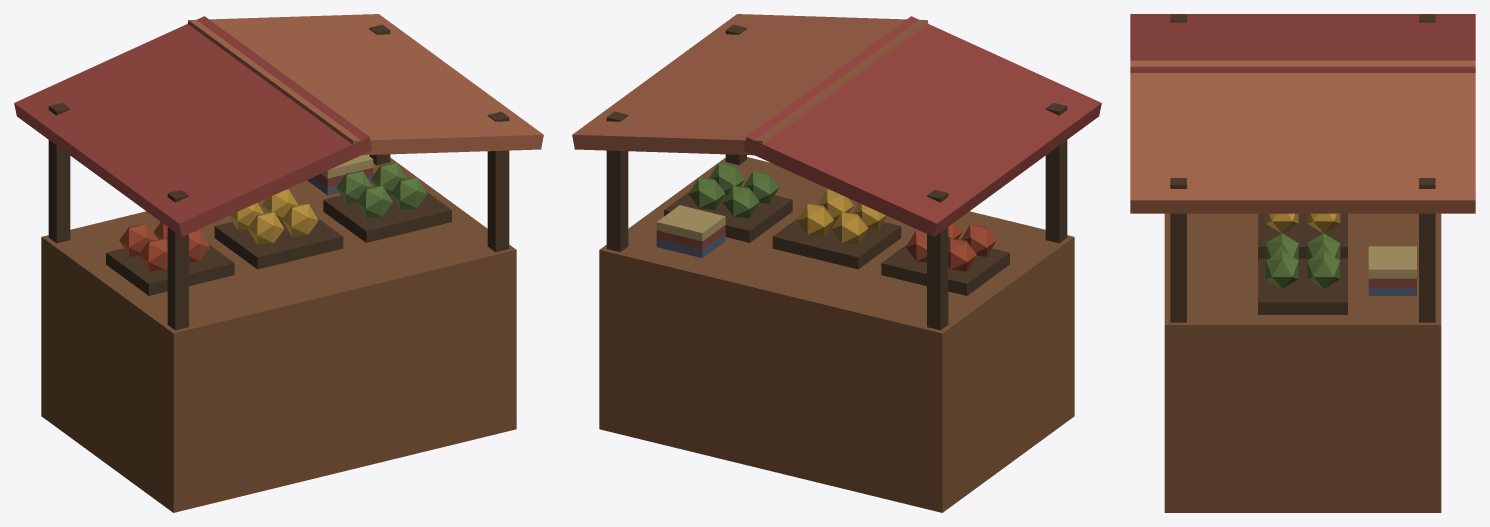
File: village_stall.glb
3 views of the same model, side by side, from view 1: azimuth 30°, elevation 25°; view 2: azimuth 150°, elevation 25°; view 3: azimuth 270°, elevation 25° (orthographic). The views are drawn at different scales.
Parts seen in each view (by area): view 1: village_stall_LOD0; view 2: village_stall_LOD0; view 3: village_stall_LOD0.
Part boxes in pixels (left/top/right/bottom): village_stall_LOD0: left=14, top=14, right=543, bottom=512; village_stall_LOD0: left=572, top=14, right=1101, bottom=512; village_stall_LOD0: left=1130, top=14, right=1475, bottom=512.
Size of what is drawn, in the model's own units: 3.19 by 2.88 by 2.5.
